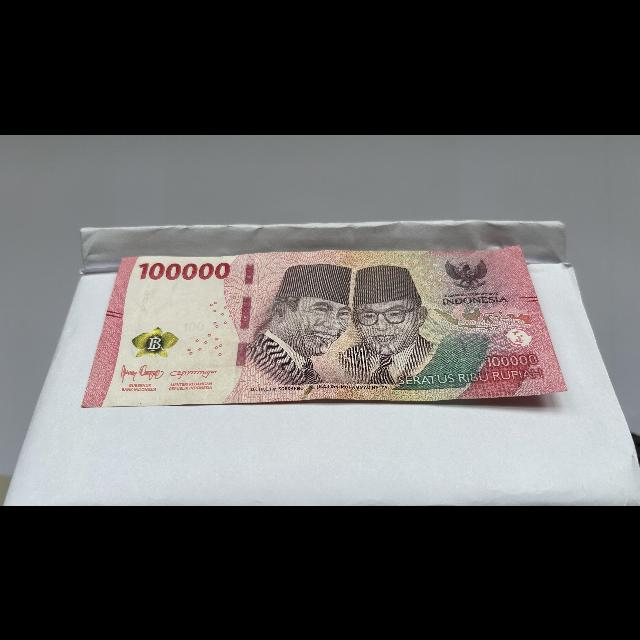Asli-100k: (75, 241, 574, 408)
Tinta-Asli-100k: (125, 325, 182, 358)
